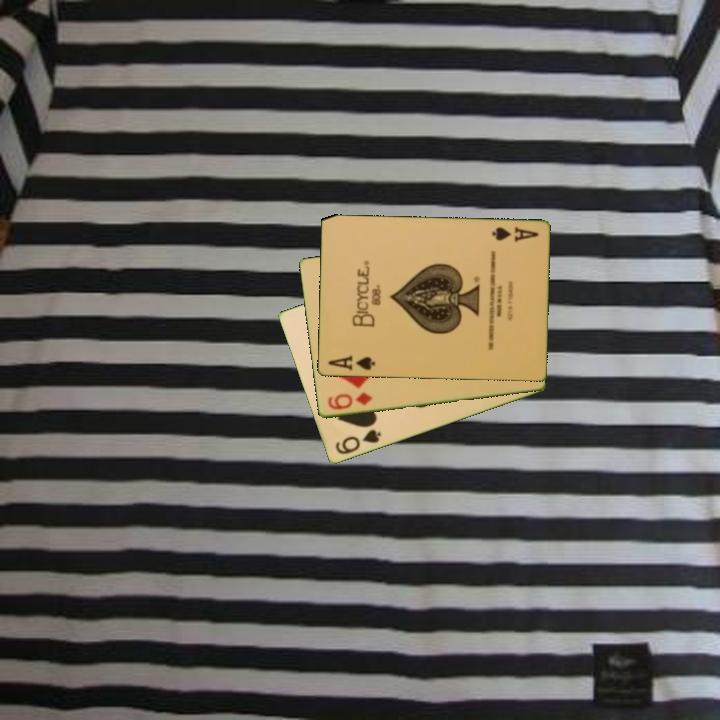6d: (324, 389, 375, 413)
6s: (331, 426, 384, 458)
As: (324, 352, 377, 373), (488, 224, 541, 245)
